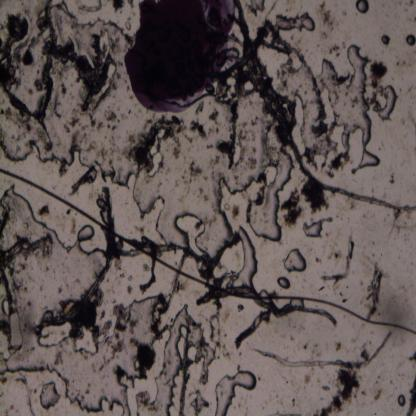Air bubble: (0, 332, 133, 415), (320, 44, 380, 170), (0, 184, 77, 275), (135, 302, 189, 416), (248, 146, 292, 241), (213, 369, 257, 416), (234, 225, 259, 287), (187, 318, 216, 369), (274, 13, 316, 34), (378, 85, 398, 121), (38, 381, 61, 409), (284, 249, 307, 274), (301, 218, 323, 238), (76, 223, 96, 242), (356, 0, 370, 14), (277, 276, 291, 290), (405, 34, 416, 46), (381, 34, 391, 46), (397, 395, 406, 408)
Background material: (128, 115, 184, 171), (315, 370, 365, 416), (97, 338, 130, 370), (280, 187, 303, 229), (302, 177, 329, 211), (134, 339, 155, 381), (62, 115, 87, 150), (252, 15, 274, 48), (72, 168, 100, 193), (32, 124, 54, 154), (317, 4, 338, 35), (86, 137, 110, 162), (369, 61, 388, 91), (188, 119, 210, 140), (405, 375, 416, 416), (186, 159, 205, 182), (63, 207, 77, 235), (103, 108, 120, 129), (88, 109, 102, 132), (37, 204, 52, 223), (328, 43, 342, 58), (208, 107, 220, 124), (112, 0, 125, 14), (194, 100, 206, 115), (126, 273, 134, 294), (407, 347, 416, 365)
Cellulose filter fibre: (235, 4, 416, 216), (237, 3, 416, 213), (32, 186, 114, 335), (1, 2, 58, 121), (254, 328, 395, 369), (272, 33, 328, 131), (233, 302, 337, 350), (50, 40, 115, 96), (320, 229, 361, 284), (157, 256, 188, 314), (198, 285, 283, 306), (114, 243, 203, 260), (366, 260, 386, 320), (76, 0, 104, 16)
Hair: (0, 169, 416, 336)
Pen: (124, 0, 237, 115)
